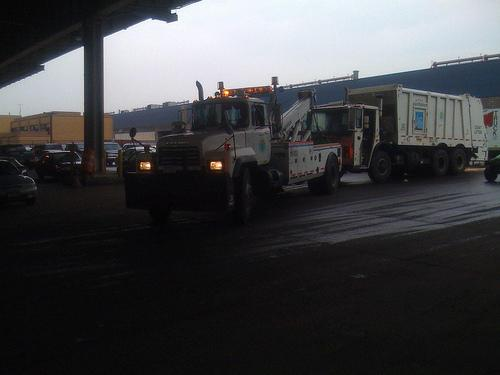truck: (305, 85, 486, 185)
